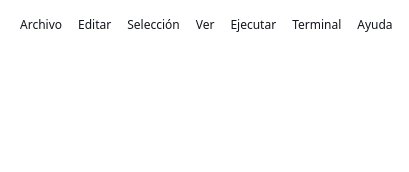
Test: MenuBar › ejecuta el comando y cierra el menú al elegir un ítem
This screenshot has width=409, height=172.
Step 1. Click the menu item with test id "menu-trigger-file" → (41, 24), box [12,12,70,37]
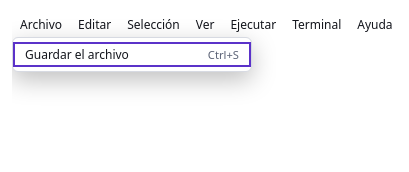
Step 2. Click the menu item with test id "menu-item-file.save" → (132, 54), box [13,42,251,67]
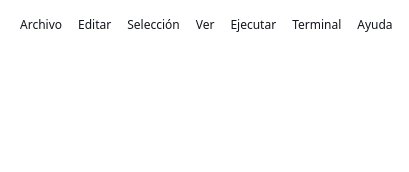
Now the menu with test id "menu-file" is gone
